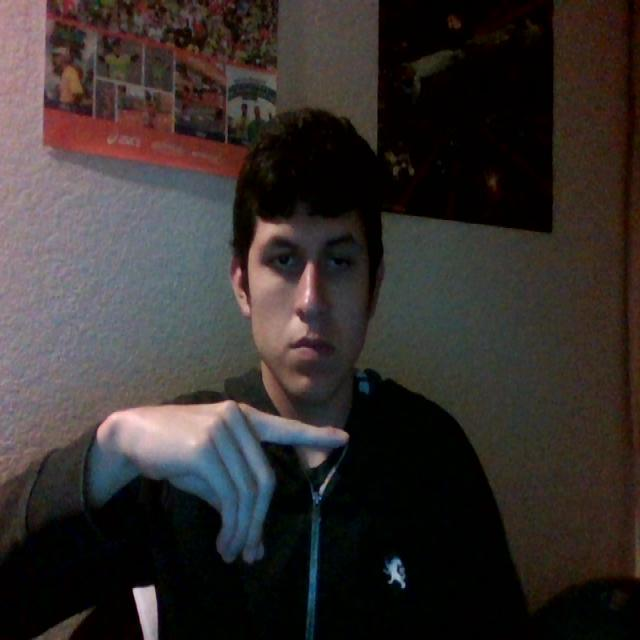P: (74, 350, 371, 592)
